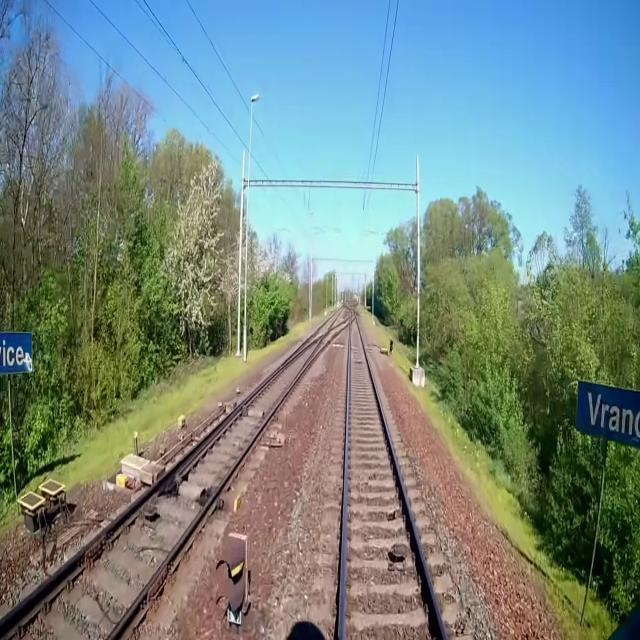rail-track: (0, 340, 318, 639), (344, 320, 442, 639), (308, 313, 336, 340), (316, 325, 341, 349)
